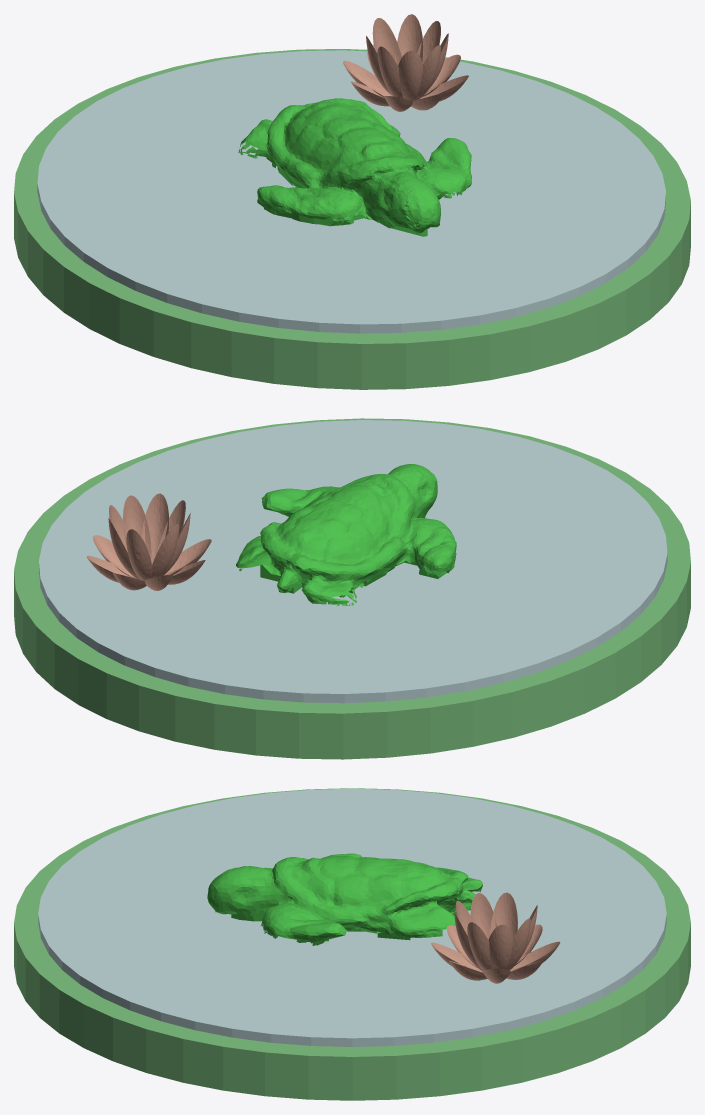
File: turtle_pond.glb
3 views of the same model, one above another, from view 1: azimuth 30°, elevation 25°; view 2: azimuth 150°, elevation 25°; view 3: azimuth 270°, elevation 25° (orthographic). The views are drawn at different scales.
Parts seen in each view (by area): view 1: Mesh_Mesh_head_geo.001_lambert2SG.001; view 2: Mesh_Mesh_head_geo.001_lambert2SG.001; view 3: Mesh_Mesh_head_geo.001_lambert2SG.001.
Boxes of the visible parts, x1,y1,x2,y2 form: Mesh_Mesh_head_geo.001_lambert2SG.001: [14, 14, 690, 389]; Mesh_Mesh_head_geo.001_lambert2SG.001: [14, 418, 690, 759]; Mesh_Mesh_head_geo.001_lambert2SG.001: [14, 788, 690, 1100].
Size of the model in its own units: 132 by 27 by 140.
